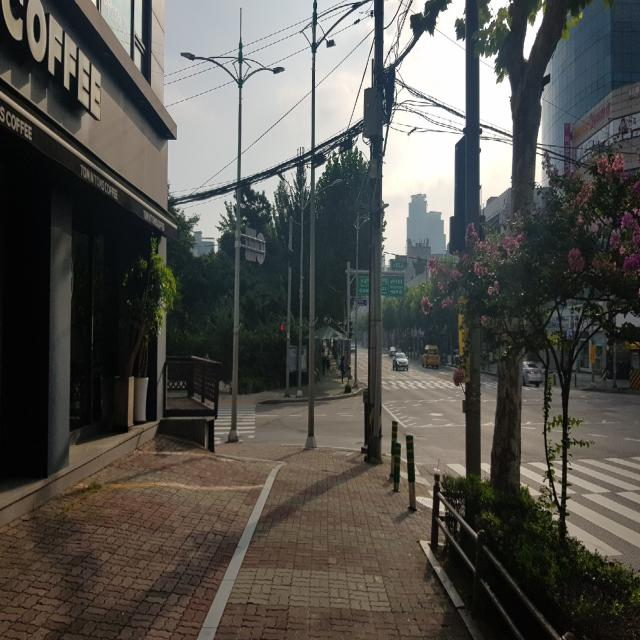횡단보도: (513, 465, 640, 525), (214, 404, 256, 444), (387, 380, 453, 390)
